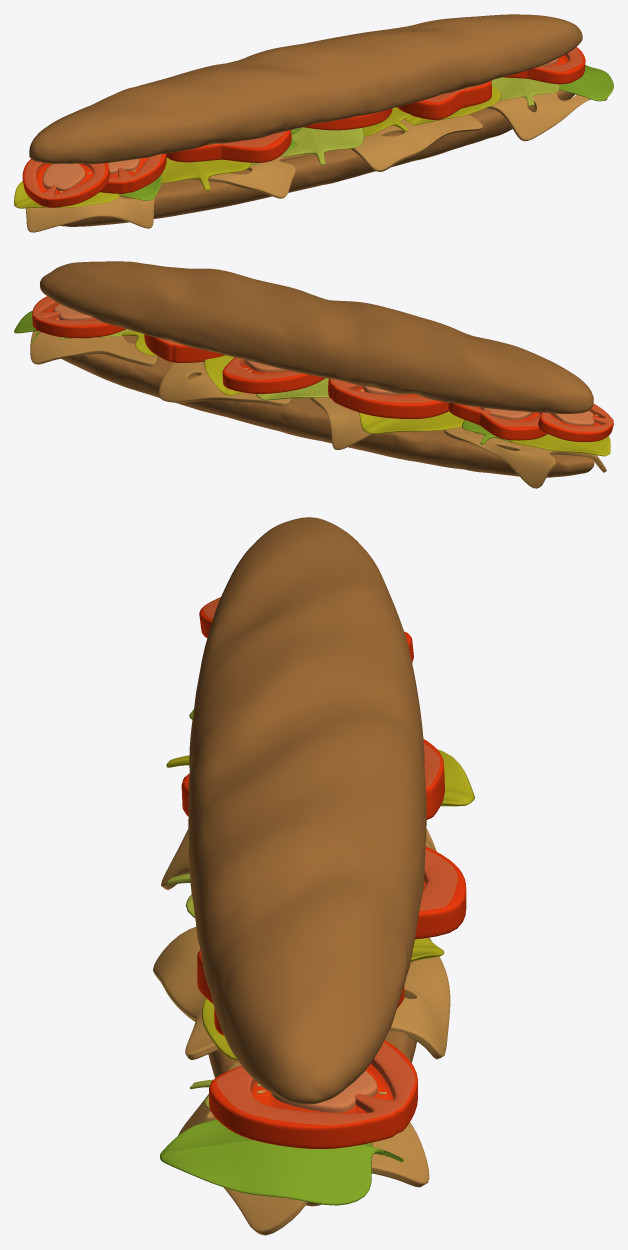
File: sandwich2.fbx
The picture shows the model from 3 angles, top to bottom: view 1: azimuth 30°, elevation 25°; view 2: azimuth 150°, elevation 25°; view 3: azimuth 270°, elevation 25°; orthographic projection. The views are drawn at different scales.
Parts seen in each view (by area): view 1: pain haut, pain bas, Cube.010, Cube.012, Cube.009, Cube.043, Cube.057, Cube.011, Cube.029, Cube.017, Cube.019, Cube.014 (+11 smaller); view 2: pain haut, pain bas, Cube.043, Cube.012, Cube.009, Cube.010, Cube.036, Cube.014, Cube.050, Cube.019, Cube.057, Cube.011 (+10 smaller); view 3: pain haut, Cube.022, Cube.014, Cube.010, Cube.009, Cube.036, Cube.023, Cube.043, Cube.019, Cube.024, pain bas.
Part boxes in pixels (x1,y1,x2,y2): pain haut: (29, 14, 582, 163); pain bas: (60, 90, 574, 226); Cube.010: (351, 114, 483, 171); Cube.012: (25, 196, 155, 232); Cube.009: (486, 92, 607, 141); Cube.043: (166, 130, 291, 162); Cube.057: (22, 159, 109, 207); Cube.011: (192, 153, 310, 198); Cube.029: (397, 80, 491, 119); Cube.017: (280, 127, 364, 165); Cube.019: (161, 158, 251, 191); Cube.014: (503, 47, 585, 84); pain haut: (39, 261, 593, 413); pain bas: (61, 335, 594, 477); Cube.043: (328, 378, 448, 418); Cube.012: (443, 427, 606, 488); Cube.009: (30, 331, 158, 366); Cube.010: (158, 361, 292, 406); Cube.036: (222, 357, 325, 393); Cube.014: (32, 296, 125, 338); Cube.050: (448, 403, 547, 440); Cube.019: (359, 411, 464, 433); Cube.057: (538, 404, 613, 441); Cube.011: (309, 397, 375, 449); pain haut: (188, 517, 426, 1104); Cube.022: (160, 1119, 403, 1205); Cube.014: (209, 1040, 417, 1148); Cube.010: (153, 927, 450, 1059); Cube.009: (178, 1040, 429, 1235); Cube.036: (415, 846, 466, 939); Cube.023: (271, 1070, 377, 1112); Cube.043: (181, 739, 444, 819); Cube.019: (166, 749, 474, 806); Cube.024: (251, 1064, 393, 1113); pain bas: (208, 962, 416, 1206).
Bounding box in the file's own units: 1485 × 300 × 353.
